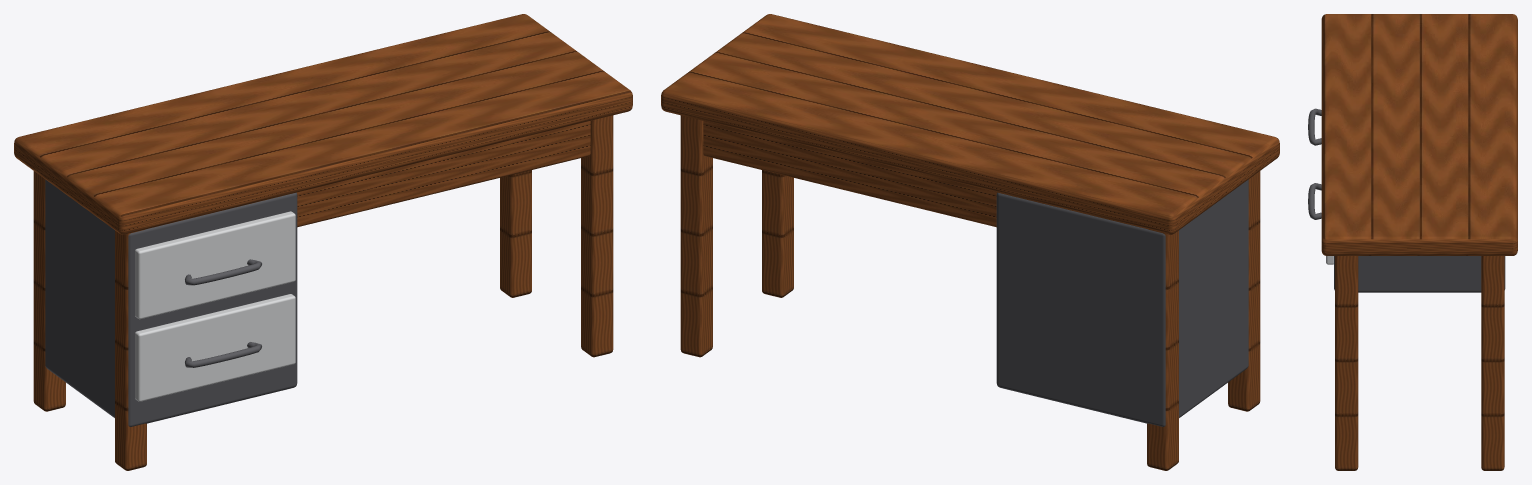
Rendered from paranormal-investigation-house-van-interior-desk-b6bc518b__26838.glb.
3 views of the same model, side by side, from view 1: azimuth 30°, elevation 25°; view 2: azimuth 150°, elevation 25°; view 3: azimuth 270°, elevation 25° (orthographic). The views are drawn at different scales.
Parts seen in each view (by area): view 1: van-interior-desk; view 2: van-interior-desk; view 3: van-interior-desk.
Boxes of the visible parts, x1,y1,x2,y2 form: van-interior-desk: (14, 14, 632, 470); van-interior-desk: (661, 14, 1279, 470); van-interior-desk: (1308, 14, 1517, 470).
Bounding box in the file's own units: 1.5 × 0.74 × 0.5877.
Materials: 4 (1 with a texture image).
